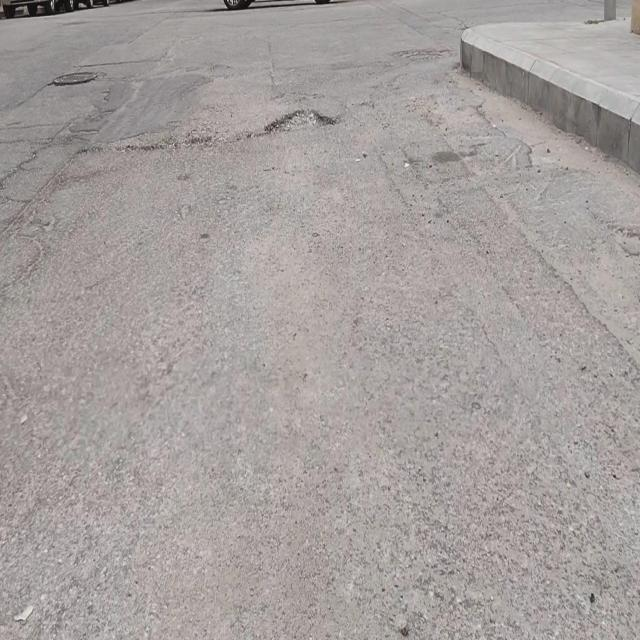Potholes: (263, 108, 337, 134)
